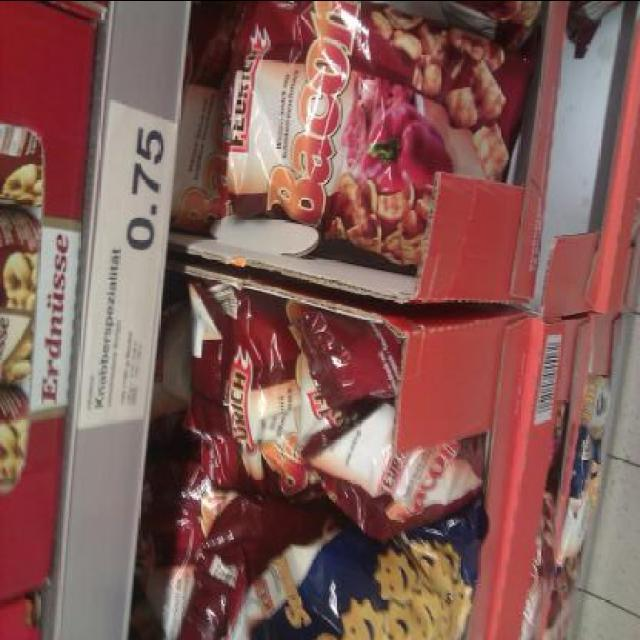Chips: (173, 346, 479, 637), (213, 2, 525, 252)
